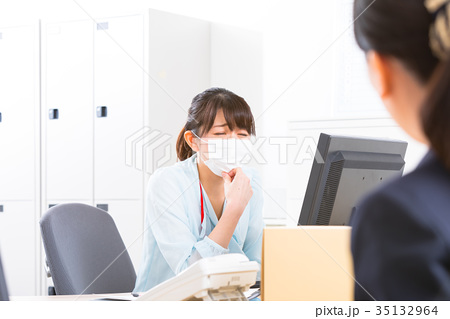mask: (205, 138, 258, 178)
